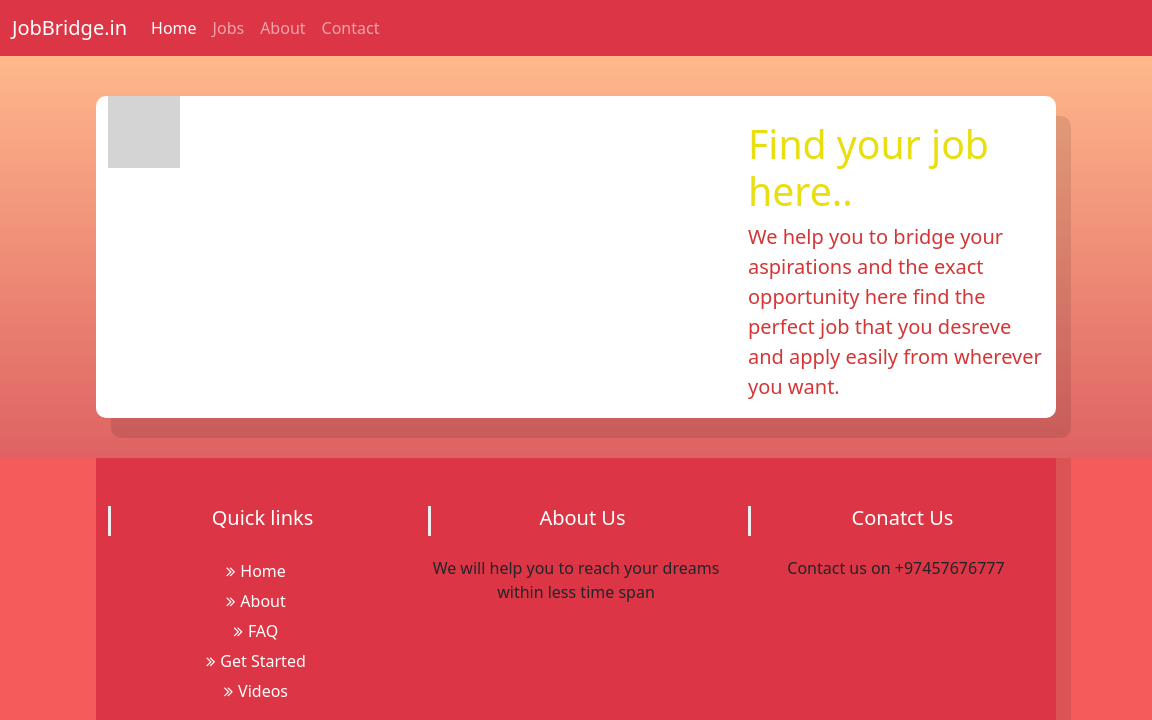
full app rendering/navigating › click jobs,its gets routed to list of jobs page
Click the link "Jobs" at (228, 28), box [213,17,244,39]
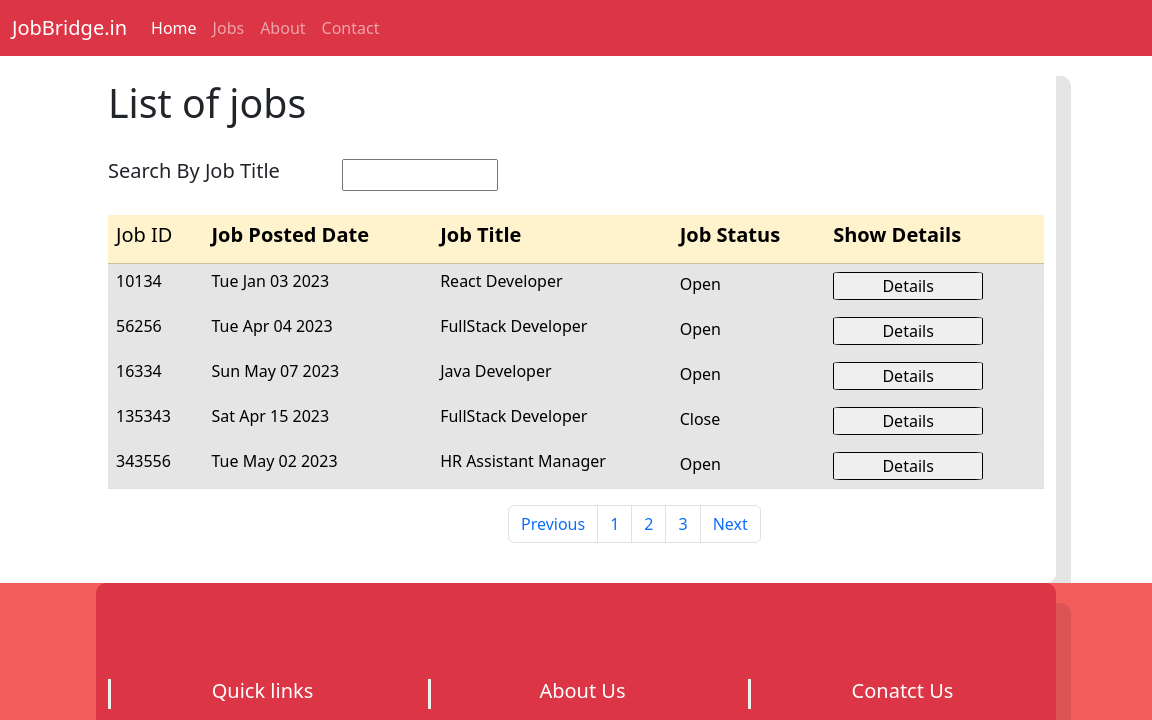
Expected: the heading "List of jobs" is shown, [108,76,306,130]
